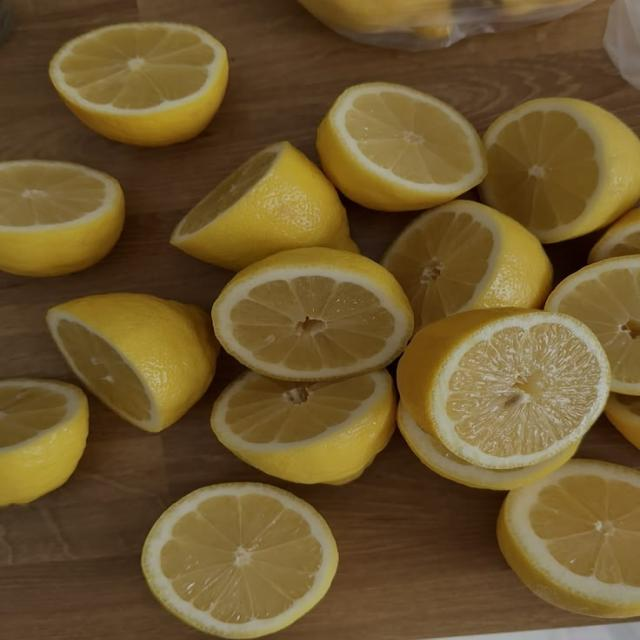lemon: (398, 308, 609, 469), (142, 483, 338, 638), (212, 248, 413, 380), (171, 142, 357, 270), (47, 293, 216, 431), (481, 98, 639, 243), (498, 460, 639, 617), (49, 23, 228, 146), (382, 201, 553, 329), (317, 83, 486, 210), (211, 370, 395, 484), (398, 404, 579, 490), (0, 160, 124, 276), (546, 256, 639, 395), (0, 379, 88, 506), (299, 0, 453, 40), (588, 209, 639, 262), (605, 393, 639, 448), (500, 0, 579, 20)
